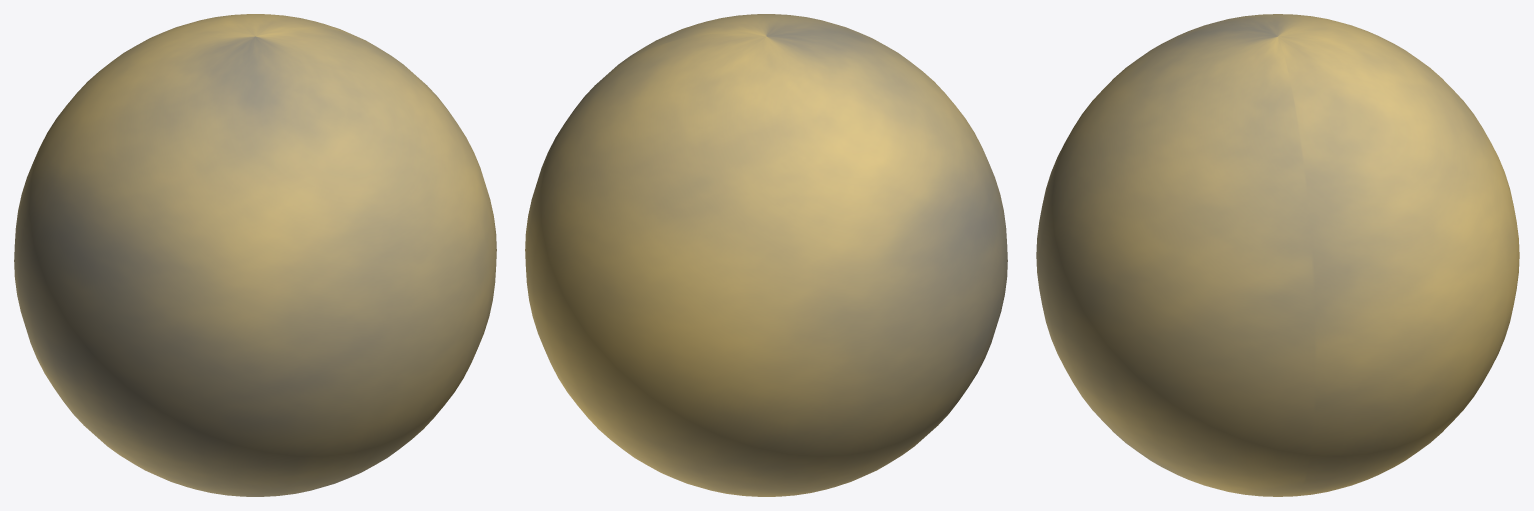
The model's file is Ball4.obj.
3 renders of one model, left to right at view 1: azimuth 30°, elevation 25°; view 2: azimuth 150°, elevation 25°; view 3: azimuth 270°, elevation 25°, orthographic.
Visible parts, largest first — view 1: pSphere1; view 2: pSphere1; view 3: pSphere1.
Part boxes in pixels (bbox=[...]): pSphere1: bbox=[14, 14, 496, 496]; pSphere1: bbox=[525, 14, 1007, 496]; pSphere1: bbox=[1036, 14, 1519, 496].
Size of the model in its own units: 2 by 2 by 2.
Materials: 1 (1 with a texture image).
